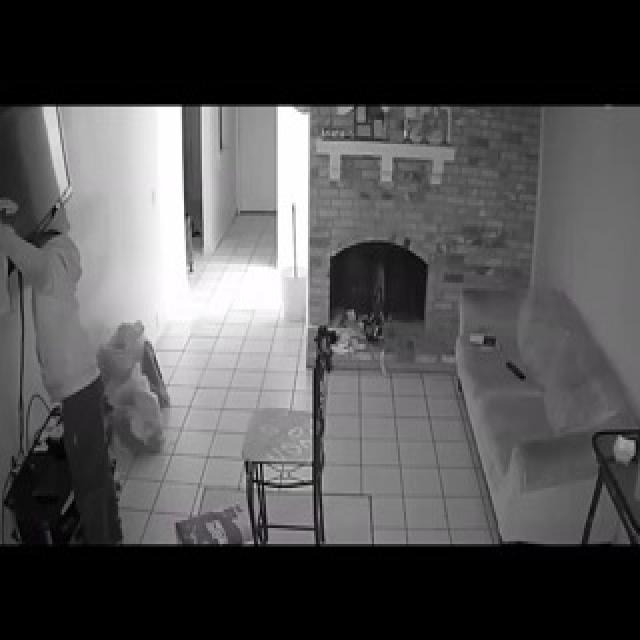thief: (22, 204, 98, 423)
